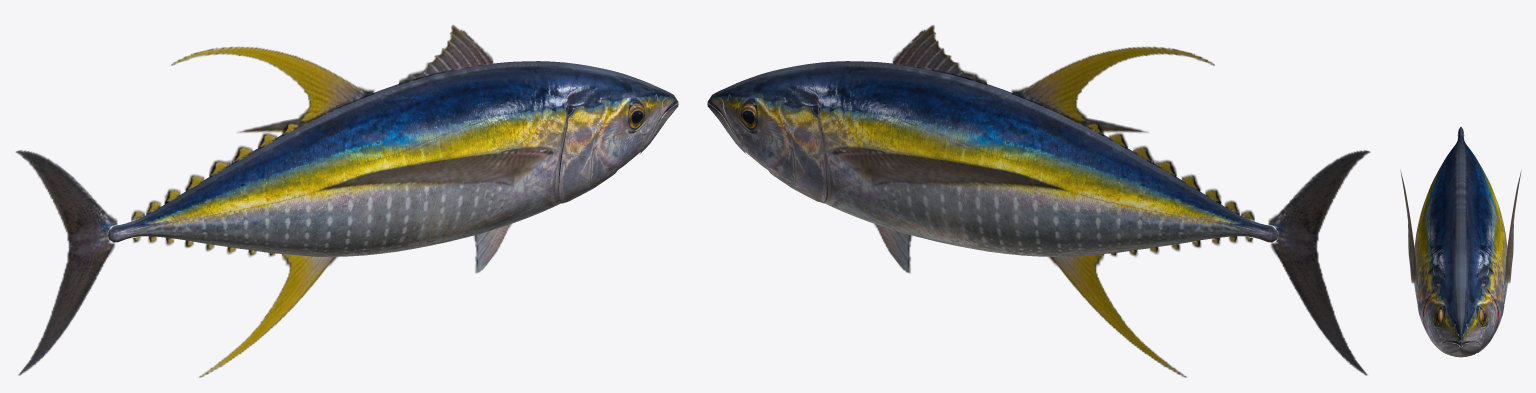
File: kihada.glb
3 views of the same model, side by side, from view 1: azimuth 30°, elevation 25°; view 2: azimuth 150°, elevation 25°; view 3: azimuth 270°, elevation 25° (orthographic). The views are drawn at different scales.
Parts seen in each view (by area): view 1: kihada; view 2: kihada; view 3: kihada.
Part boxes in pixels (left/top/right/bottom): kihada: left=15, top=25, right=678, bottom=377; kihada: left=707, top=25, right=1370, bottom=377; kihada: left=1400, top=127, right=1521, bottom=357.
Bounding box in the file's own units: 1 × 0.4728 × 0.2096.
Materials: 1 (1 with a texture image).
